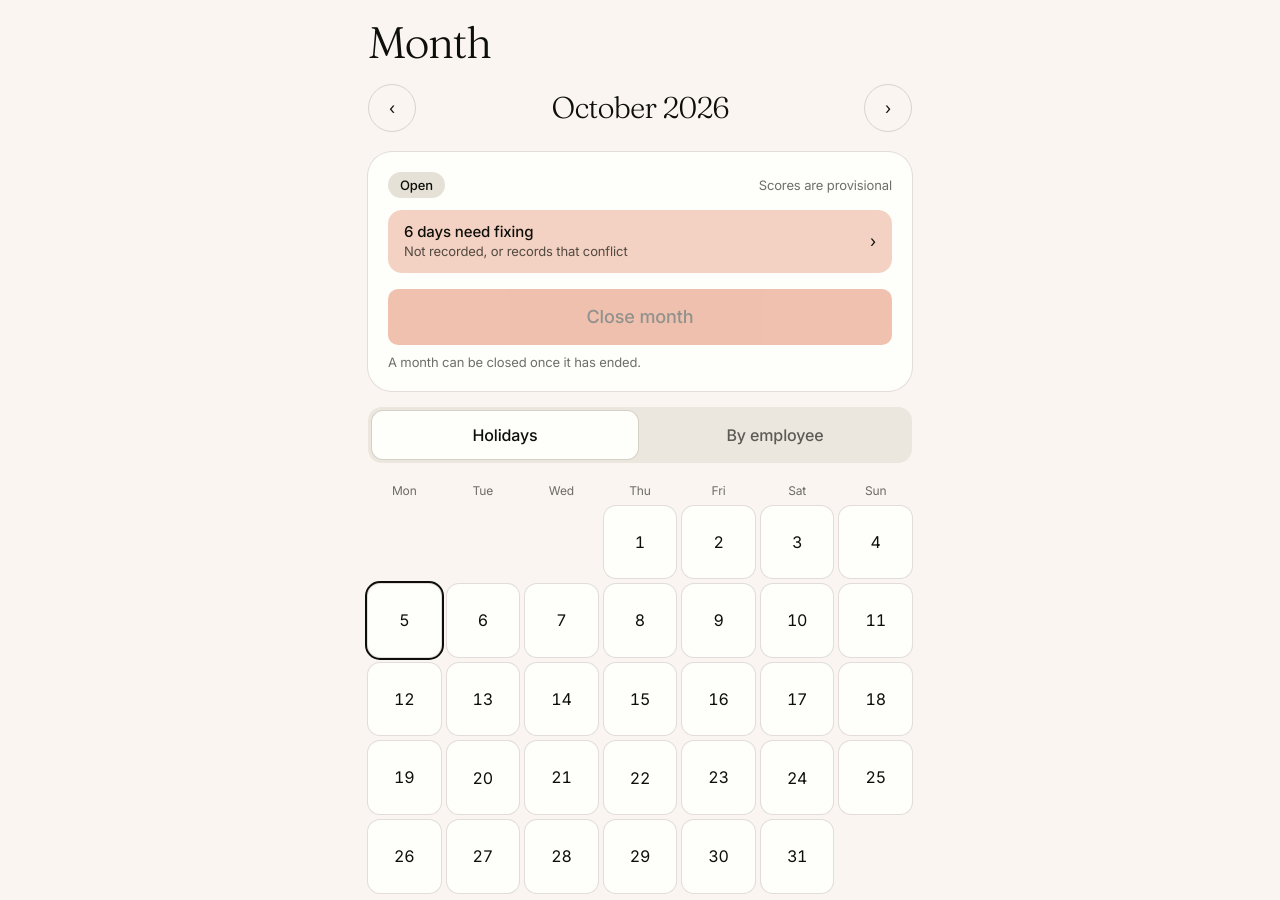
it: Month: holidays › marks a date as a holiday with a name
Click the button "20" at (483, 778), box [447,741,519,814]
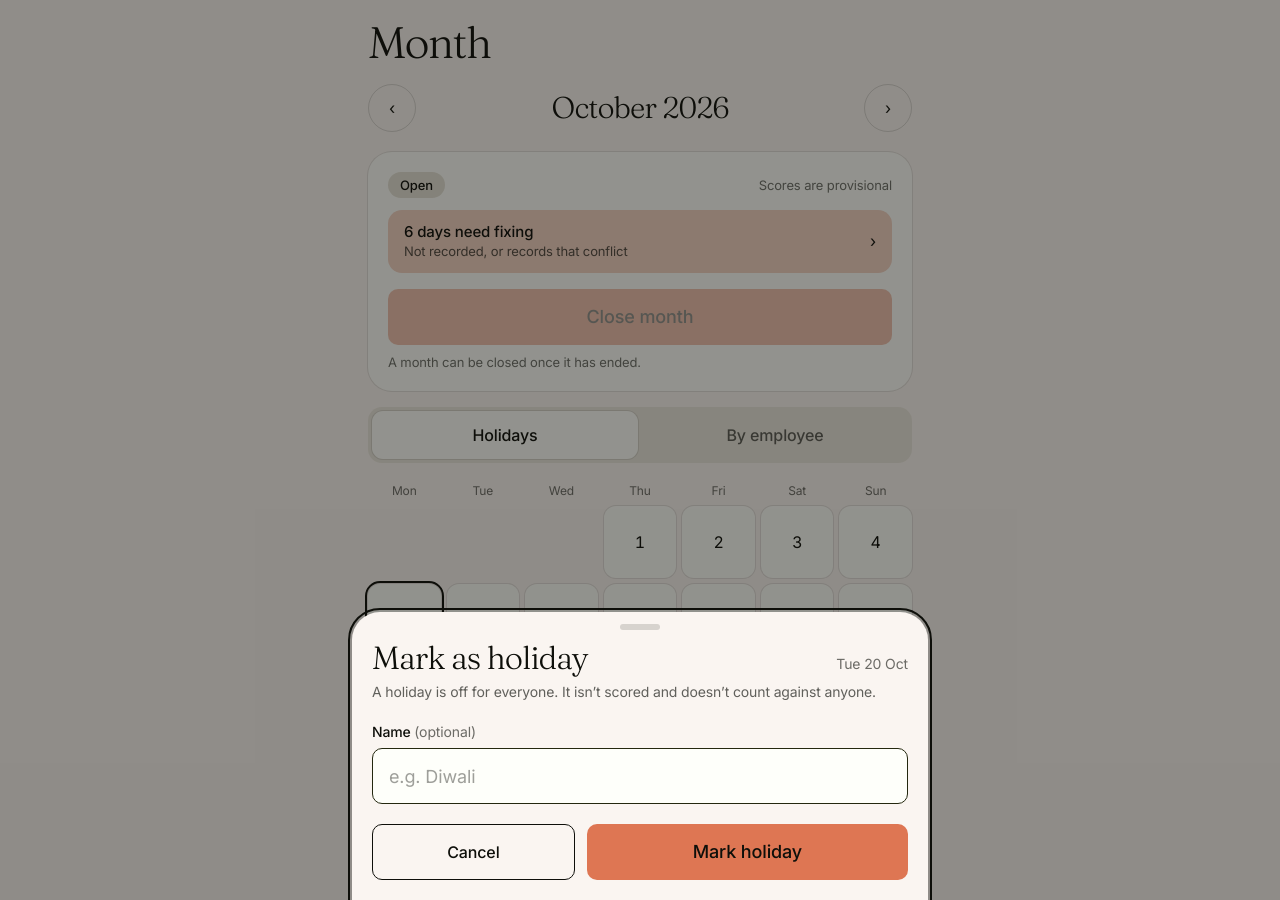
Type "Test holiday" into the field labelled "Name (optional)" at (640, 776), box [372,748,908,804]
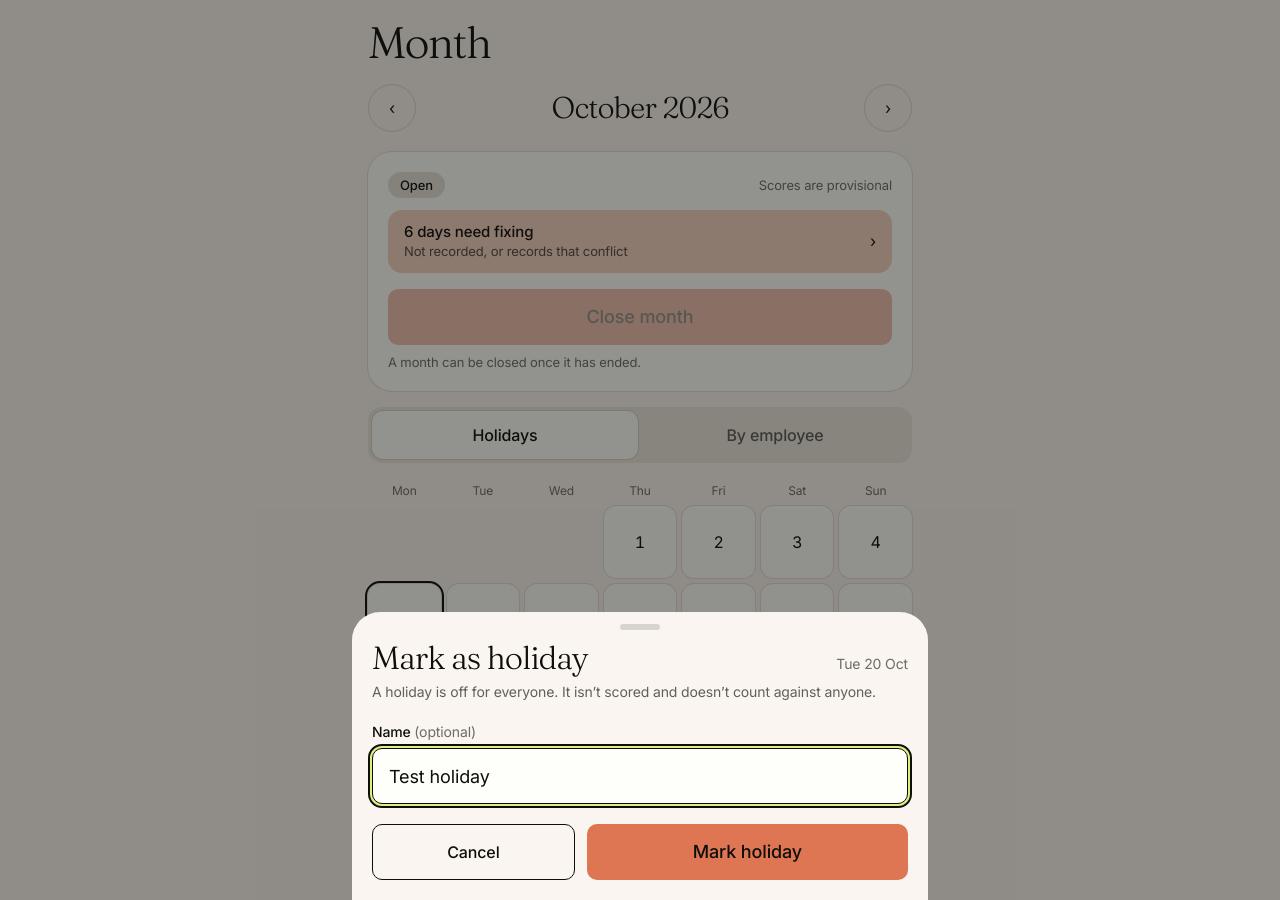
Click the button "Mark holiday" at (747, 852), box [587,824,908,880]
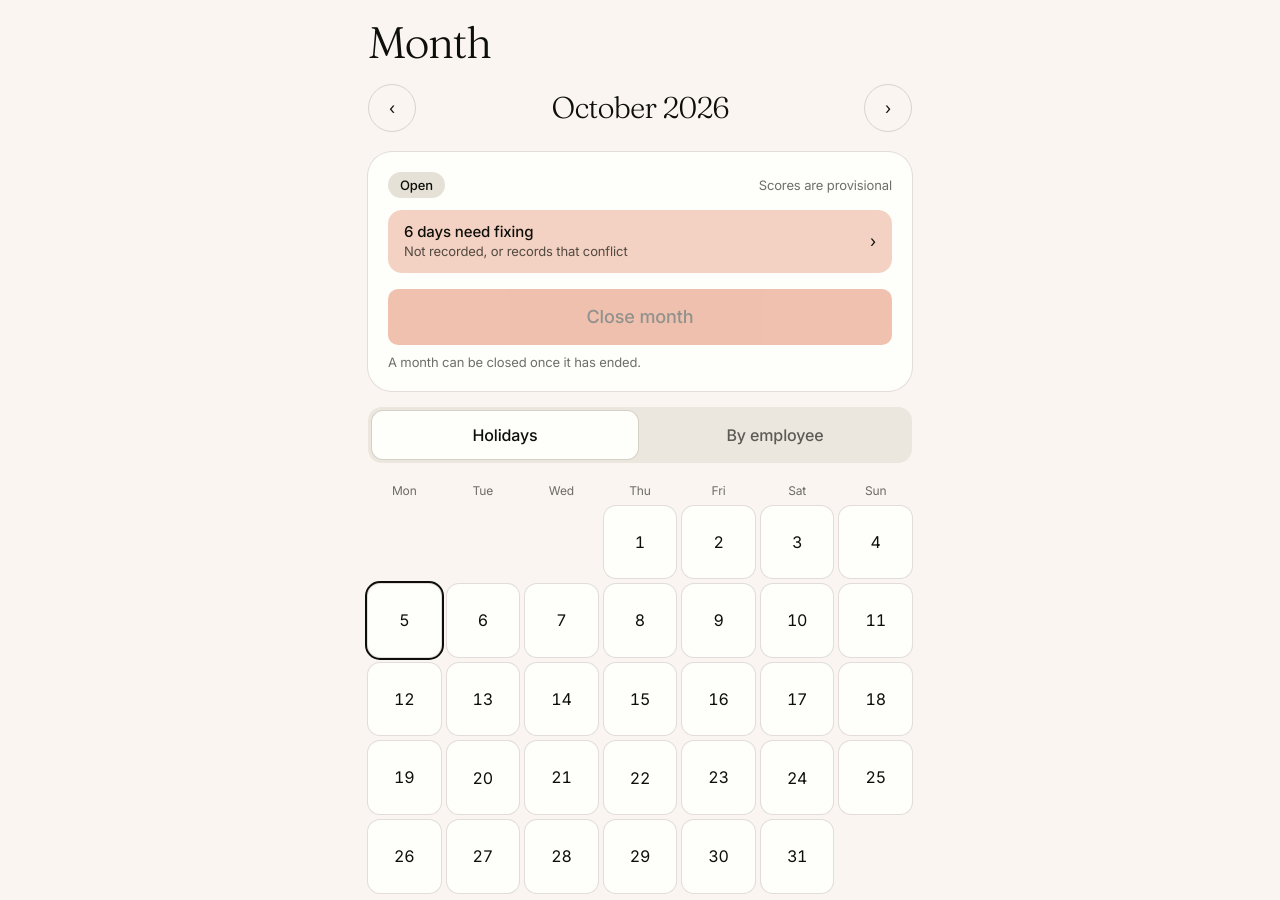
Result: the dialog is gone
